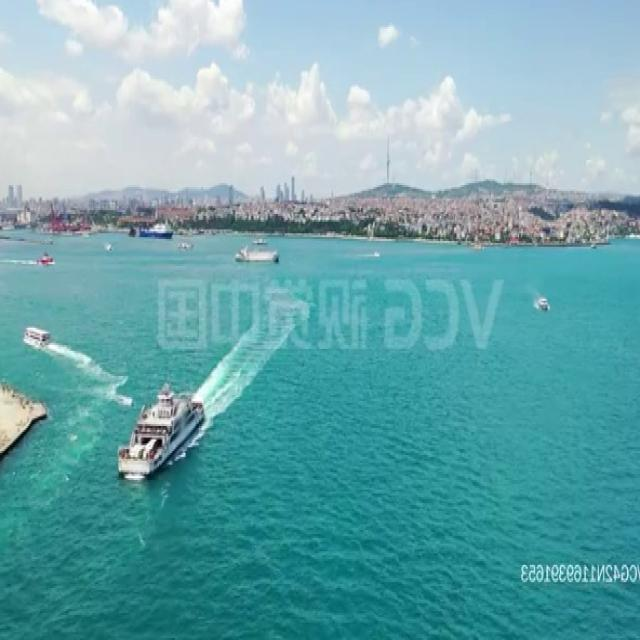houseboat: (534, 292, 550, 314), (36, 250, 56, 267), (177, 239, 193, 249), (104, 241, 114, 256), (253, 235, 266, 246), (373, 251, 383, 258)
passenger ship: (117, 380, 204, 482), (24, 321, 52, 351), (141, 218, 172, 240), (236, 248, 278, 263)
